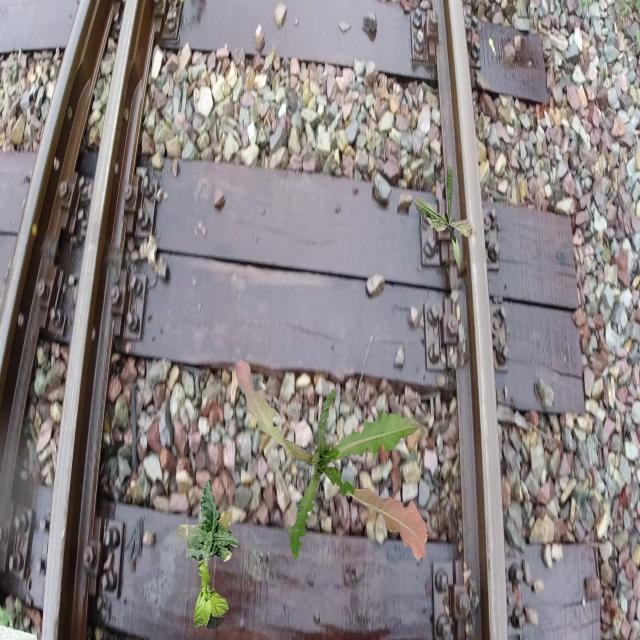Plant: (235, 359, 428, 562), (414, 164, 478, 276), (176, 479, 240, 562), (194, 546, 230, 630)
